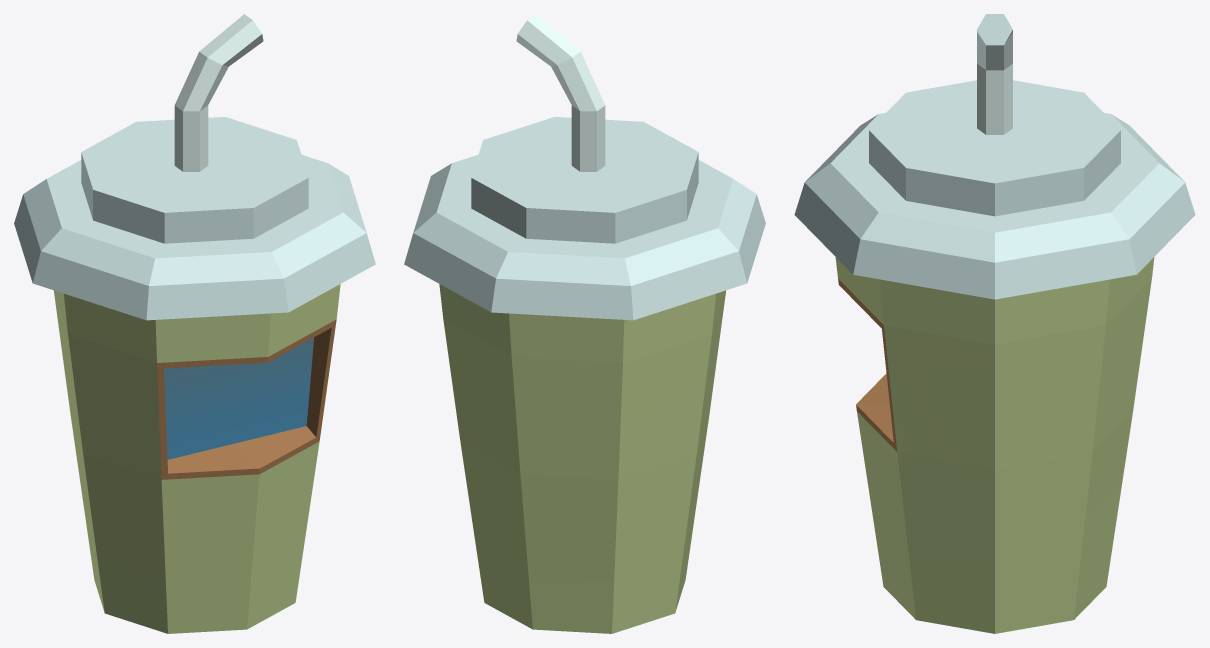
Rendered from Drink_Shop.fbx.
3 renders of one model, left to right at view 1: azimuth 30°, elevation 25°; view 2: azimuth 150°, elevation 25°; view 3: azimuth 270°, elevation 25°, orthographic. The views are drawn at different scales.
Parts seen in each view (by area): view 1: Soda_Shop; view 2: Soda_Shop; view 3: Soda_Shop.
Part boxes in pixels (x1,y1,x2,y2): Soda_Shop: (14,14,375,633); Soda_Shop: (404,14,765,633); Soda_Shop: (794,14,1195,633).
Size of the model in its own units: 132 by 219 by 132.
